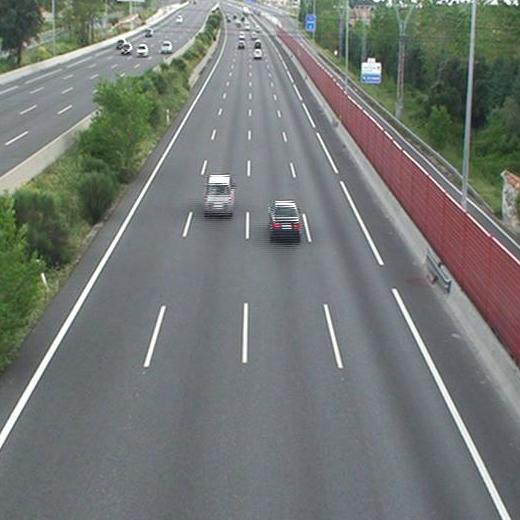car: (204, 174, 234, 213), (269, 202, 300, 235), (253, 50, 263, 58), (237, 40, 245, 50)
